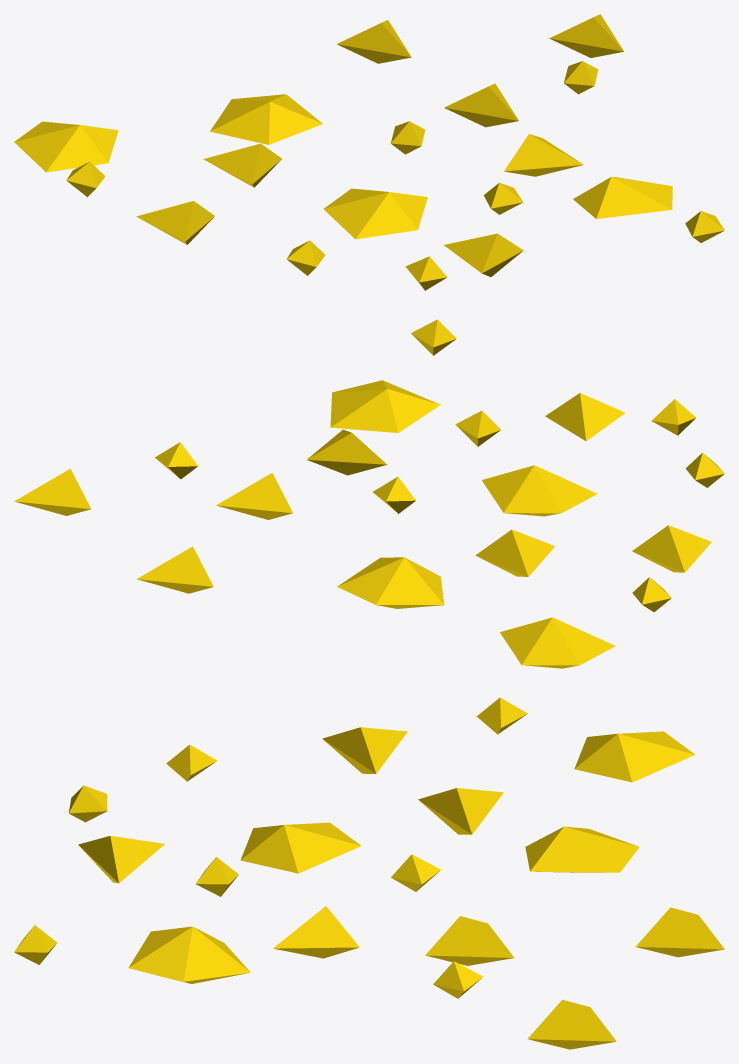
Rendered from ZLP_Flower_A_7.FBX.
3 renders of one model, top to bottom at view 1: azimuth 30°, elevation 25°; view 2: azimuth 150°, elevation 25°; view 3: azimuth 270°, elevation 25°, orthographic. The views are drawn at different scales.
Visible parts, largest first — view 1: ZLP_Flower_A_7; view 2: ZLP_Flower_A_7; view 3: ZLP_Flower_A_7.
Part boxes in pixels (x1,y1,x2,y2): ZLP_Flower_A_7: (14, 14, 724, 290); ZLP_Flower_A_7: (14, 319, 724, 668); ZLP_Flower_A_7: (14, 697, 724, 1049).
Bounding box in the file's own units: 106 × 9.25 × 97.89.
